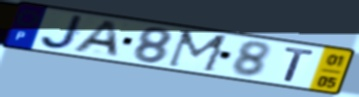8: (129, 26, 175, 65), (231, 39, 272, 80)
A: (68, 19, 121, 59)
J: (39, 13, 87, 51)
M: (164, 28, 232, 75)
T: (282, 46, 318, 84)
